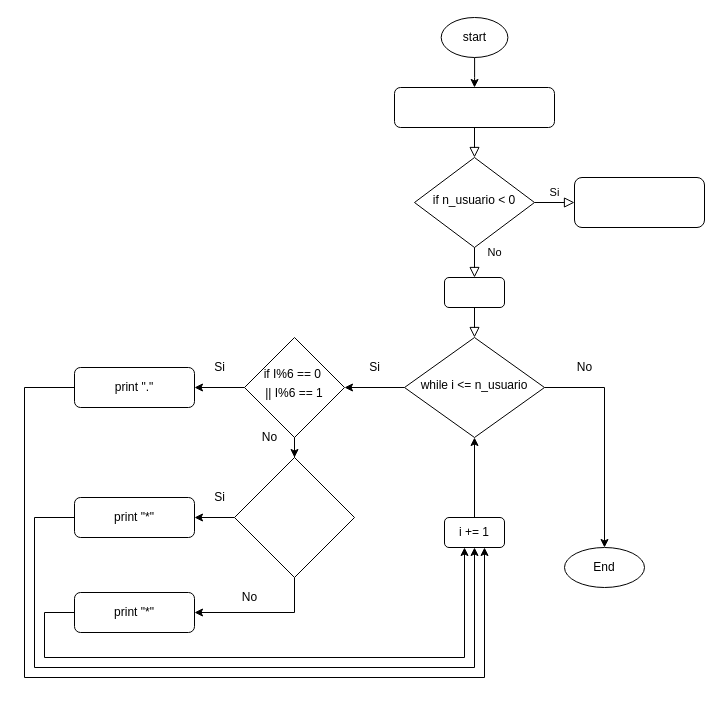
Some shapes in this 722 by 703 pixel diagram are drawn without their labels. Each missing label, with the centre of its shape:
elsif I%6 == 2 || I%6 == 3: the point at 294,517
i = 0: the point at 474,292
n_usuario = ARGV[0].to_i: the point at 474,107
puts "El número debe ser mayor a 0": the point at 639,202
